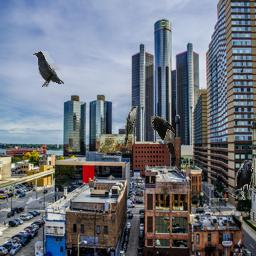Crow: (33, 51, 64, 87), (151, 116, 175, 156), (235, 160, 253, 200)
Cuckoo: (124, 106, 138, 146)
